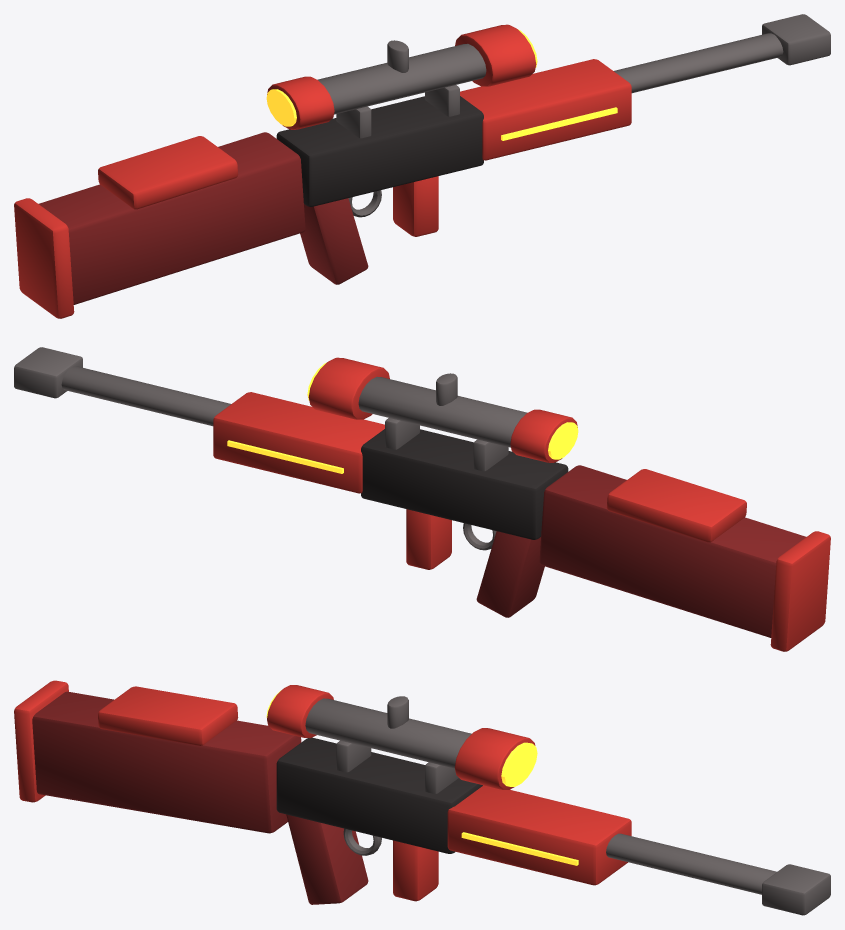
Rendered from SGP_Sniper_Inferno.glb.
3 renders of one model, top to bottom at view 1: azimuth 30°, elevation 25°; view 2: azimuth 150°, elevation 25°; view 3: azimuth 330°, elevation 25°, orthographic.
Visible parts, largest first — view 1: SGP_Sniper_Inferno; view 2: SGP_Sniper_Inferno; view 3: SGP_Sniper_Inferno.
Boxes of the visible parts, x1,y1,x2,y2 form: SGP_Sniper_Inferno: (14, 14, 830, 318); SGP_Sniper_Inferno: (14, 347, 830, 651); SGP_Sniper_Inferno: (14, 680, 830, 915).
Size of the model in its own units: 0.8882 by 0.2295 by 0.08.
